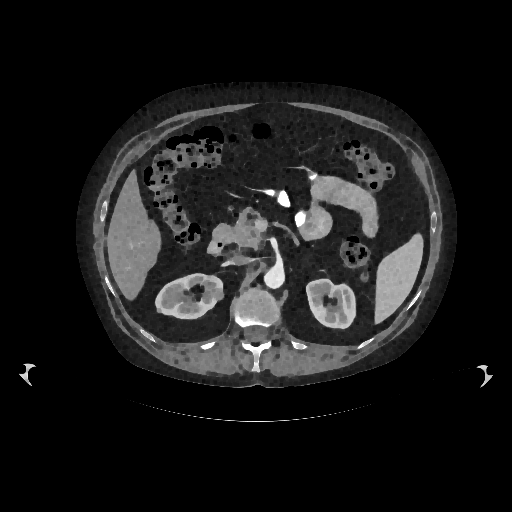Lesion: (209, 284, 228, 306)
